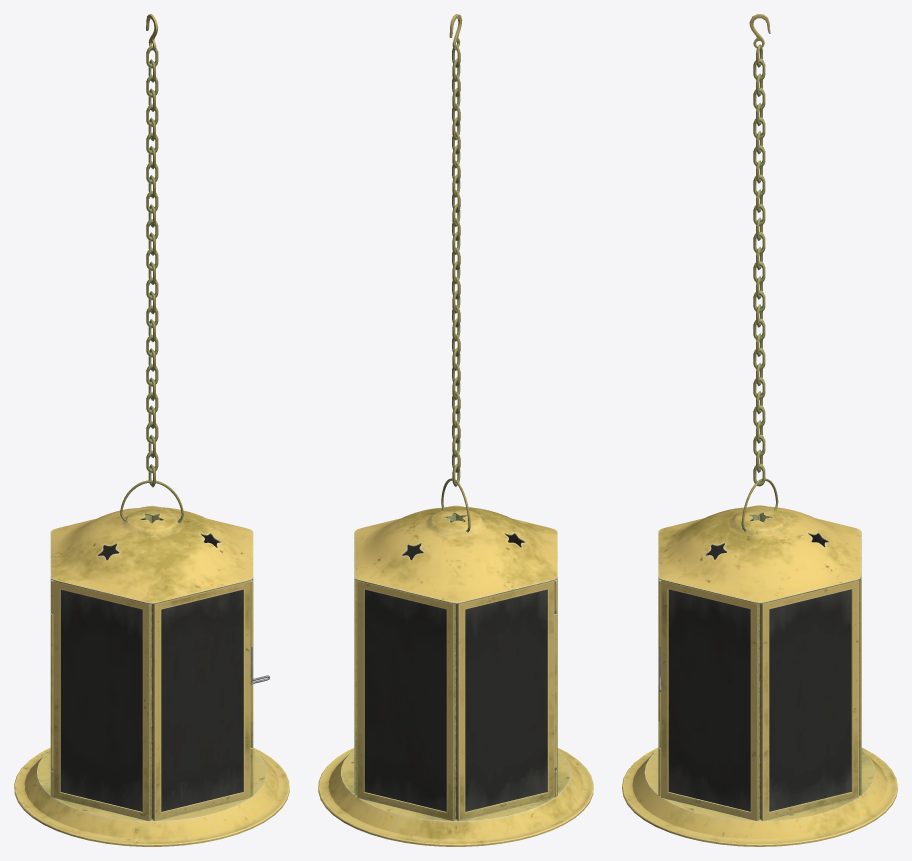
File: brass_diya_lantern.glb
3 renders of one model, left to right at view 1: azimuth 30°, elevation 25°; view 2: azimuth 150°, elevation 25°; view 3: azimuth 270°, elevation 25°, orthographic.
Parts seen in each view (by area): view 1: brass_diya_lantern, brass_diya_lantern_chain; view 2: brass_diya_lantern, brass_diya_lantern_chain; view 3: brass_diya_lantern, brass_diya_lantern_chain.
Part boxes in pixels (<box>): brass_diya_lantern: <box>14,505,289,846</box>; brass_diya_lantern_chain: <box>146,14,158,487</box>; brass_diya_lantern: <box>318,505,593,846</box>; brass_diya_lantern_chain: <box>449,14,462,486</box>; brass_diya_lantern: <box>622,505,897,846</box>; brass_diya_lantern_chain: <box>749,14,770,486</box>.
Bounding box in the file's own units: 0.123 × 0.3808 × 0.123.
3 materials, 3 textured.
